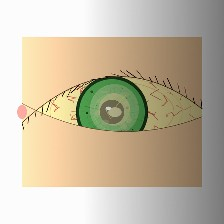corneal_ulcer: (88, 88, 141, 131)
